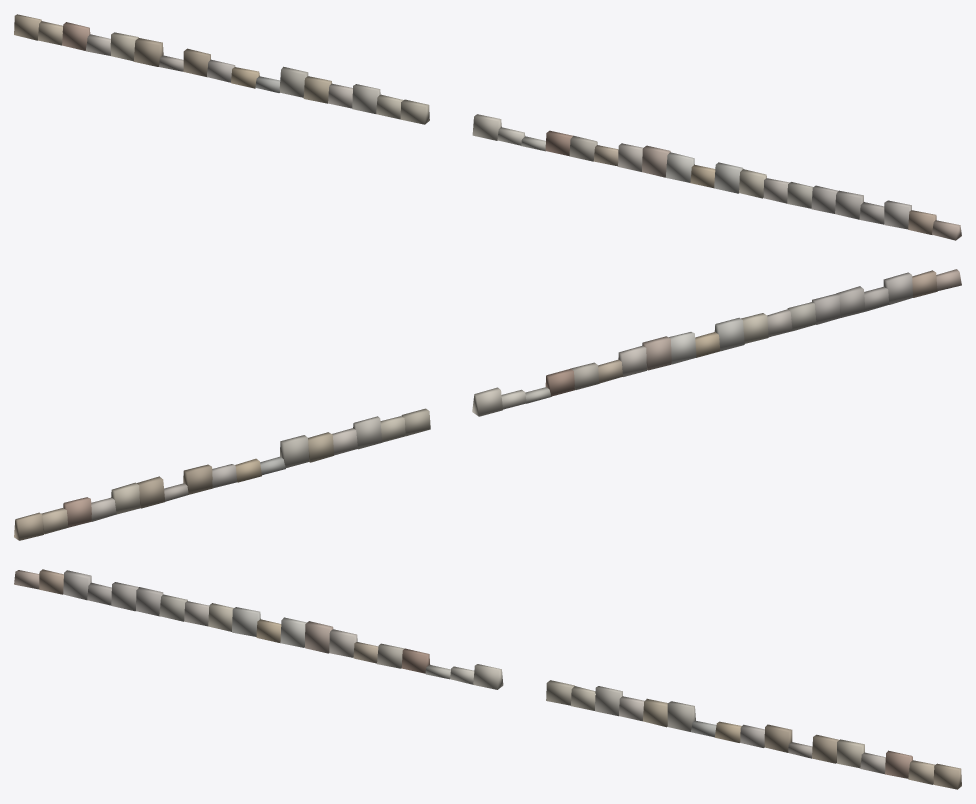
File: farm_7_-4_far.glb
The picture shows the model from 3 angles, top to bottom: view 1: azimuth 90°, elevation 25°; view 2: azimuth 150°, elevation 25°; view 3: azimuth 270°, elevation 25°; orthographic projection. The views are drawn at different scales.
Visible parts, largest first — view 1: geometry_0; view 2: geometry_0; view 3: geometry_0.
Boxes of the visible parts, box(x1,y1,x2,y2) form: geometry_0: box(14, 14, 961, 240); geometry_0: box(14, 269, 961, 540); geometry_0: box(14, 569, 961, 789).
Size of the model in its own units: 28.92 by 1.53 by 55.32.
